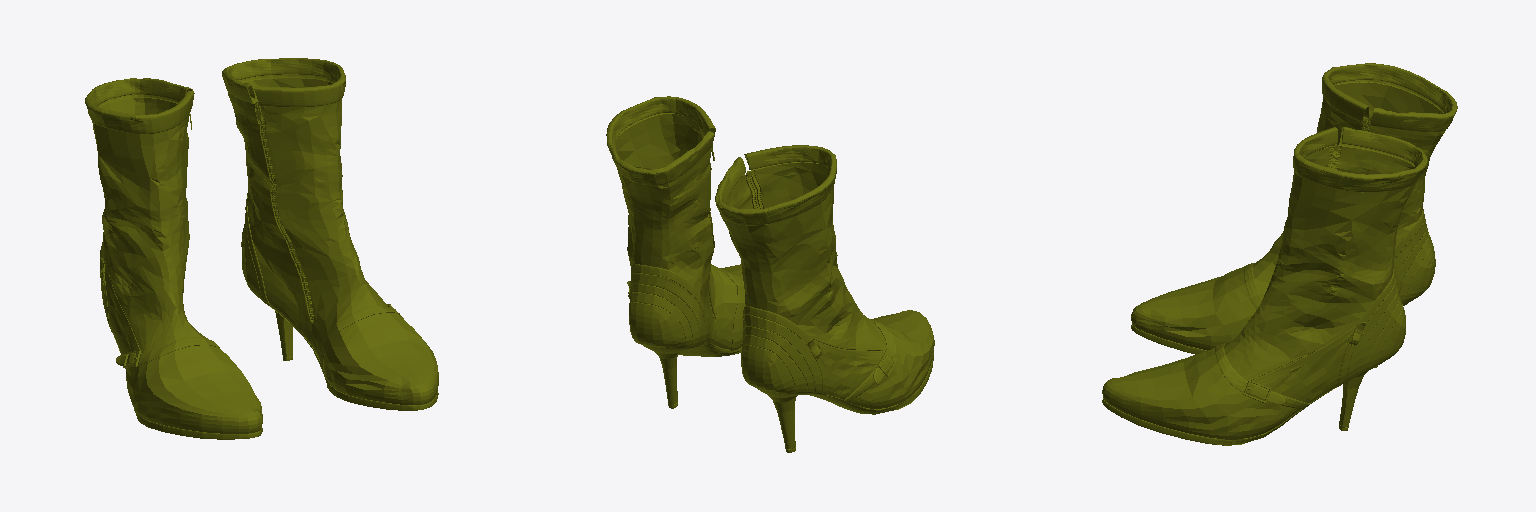
Rendered from gaotong6.obj.
3 views of the same model, side by side, from view 1: azimuth 30°, elevation 25°; view 2: azimuth 150°, elevation 25°; view 3: azimuth 270°, elevation 25° (orthographic).
Parts seen in each view (by area): view 1: file.001; view 2: file.001; view 3: file.001.
Part boxes in pixels (bbox=[...]): file.001: bbox=[85, 58, 438, 439]; file.001: bbox=[606, 96, 934, 452]; file.001: bbox=[1102, 63, 1457, 445].
Bounding box in the file's own units: 3.4 × 3.58 × 3.98.